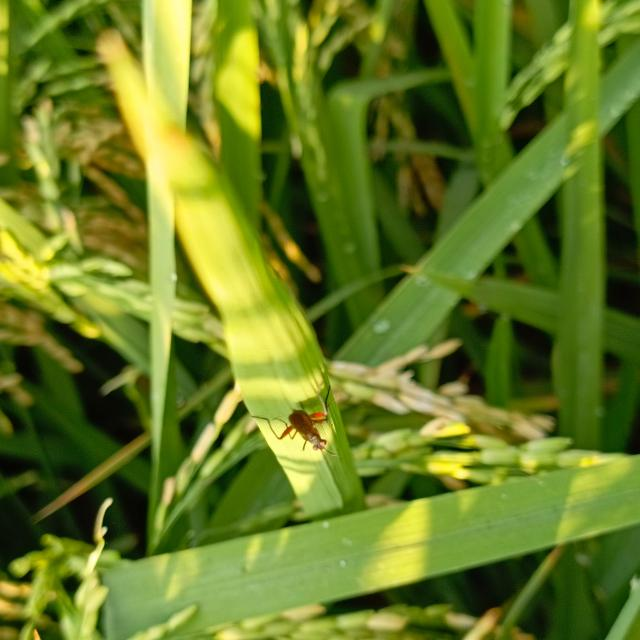Brown spot: (25, 427, 150, 529)
